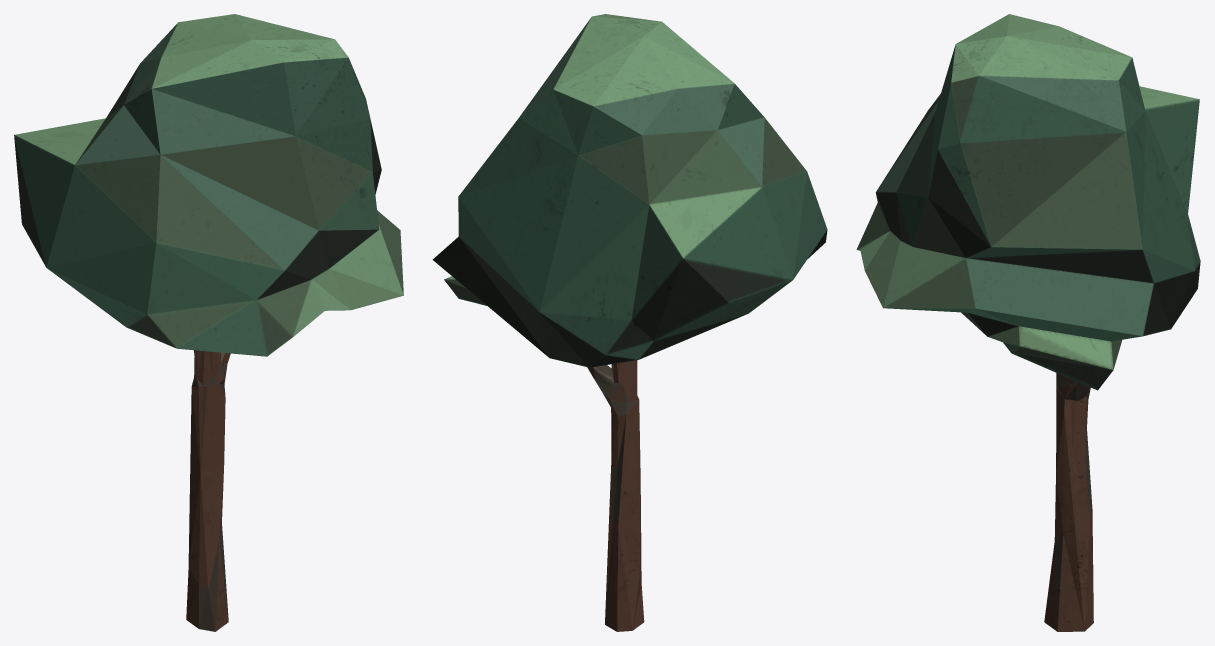
The model's file is Tree_3.obj.
The picture shows the model from 3 angles, left to right: view 1: azimuth 30°, elevation 25°; view 2: azimuth 150°, elevation 25°; view 3: azimuth 270°, elevation 25°; orthographic projection. The views are drawn at different scales.
Parts seen in each view (by area): view 1: Object.1; view 2: Object.1; view 3: Object.1.
Part boxes in pixels (bbox=[...]): Object.1: bbox=[14, 14, 403, 631]; Object.1: bbox=[432, 14, 827, 631]; Object.1: bbox=[856, 14, 1200, 631].
Bounding box in the file's own units: 143 × 239 × 126.
Materials: 1 (1 with a texture image).
